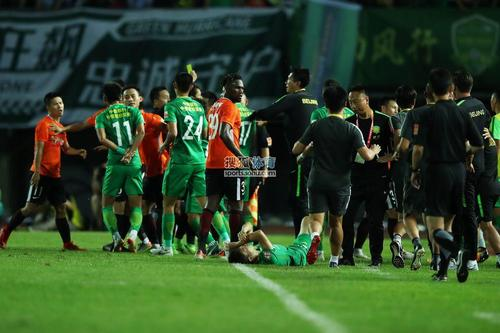10+: (13, 50, 496, 284)
down: (214, 212, 332, 273)
